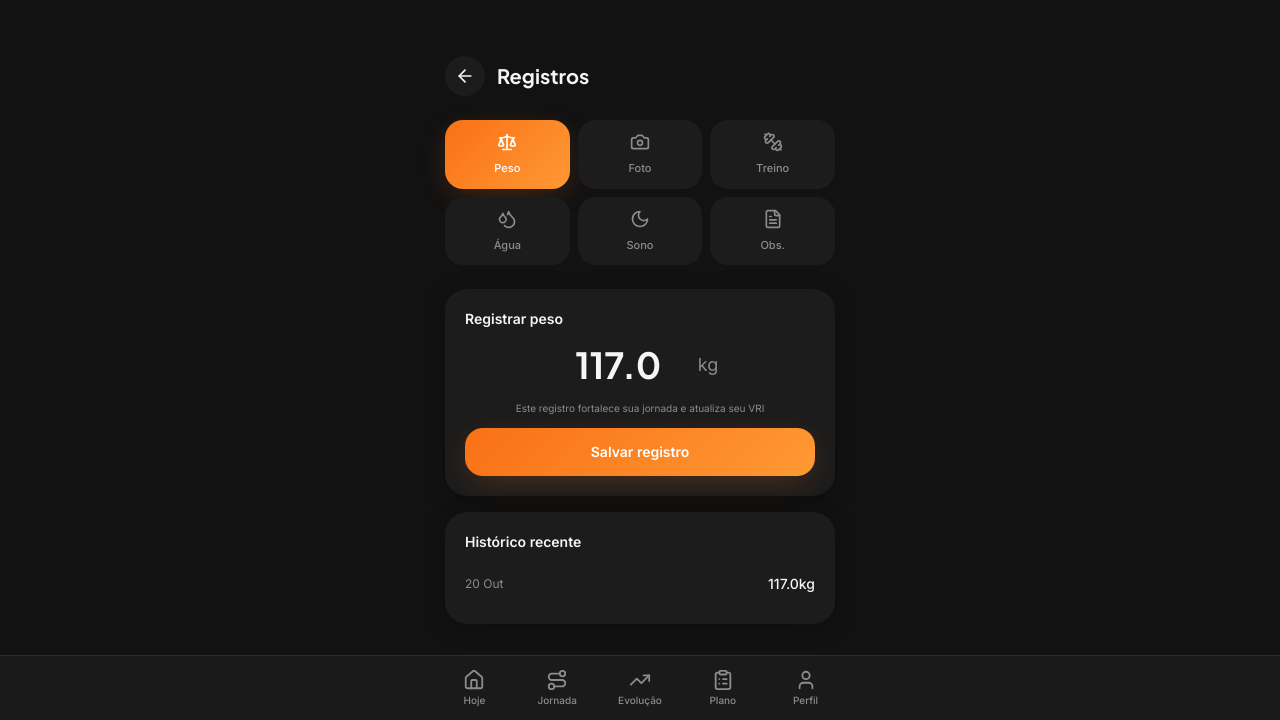
Test: Registrar peso — conferência antes de salvar (PDF do Ernâni, tela 03) › 117 → 108 em dois dias NÃO grava: pede confirmação com os números
The width and height of the screenshot is (1280, 720).
Step 1. Replace the text in the number field with placeholder "0.0" with "108" → (626, 365), box top-left (562, 345), bottom-right (690, 385)
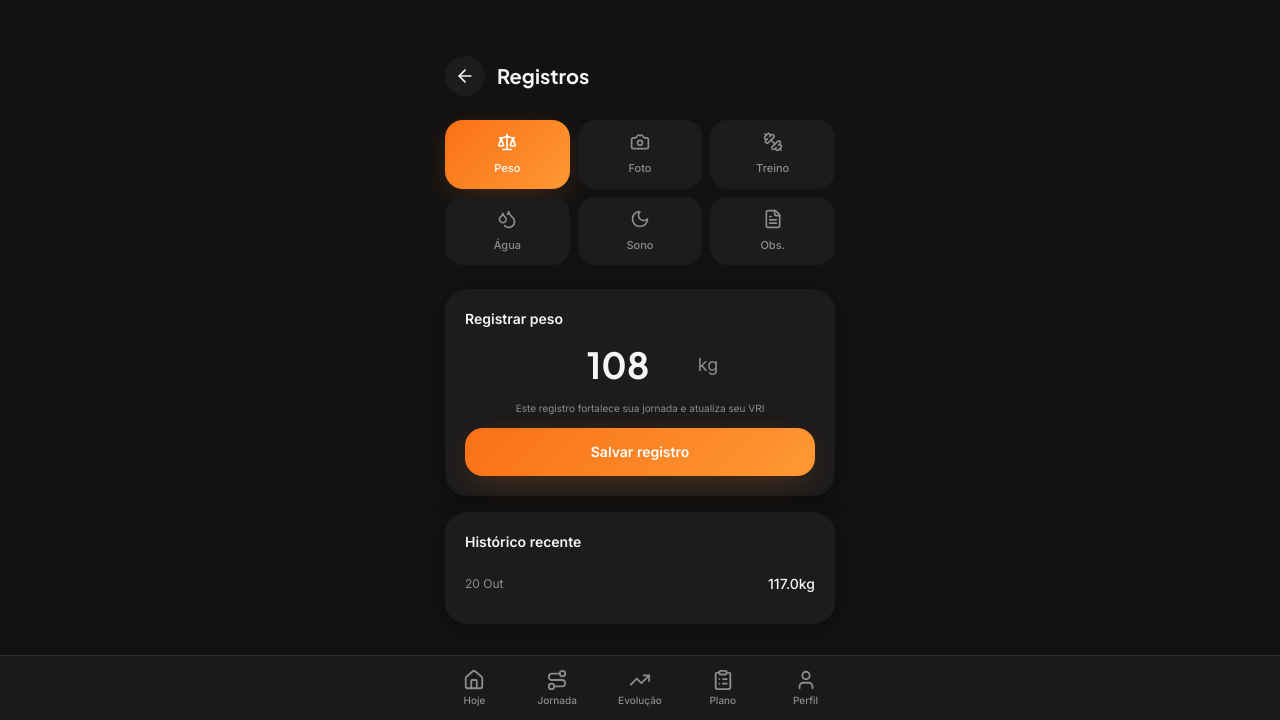
Step 2. Click the button "Salvar registro" → (640, 452), box top-left (465, 428), bottom-right (815, 476)
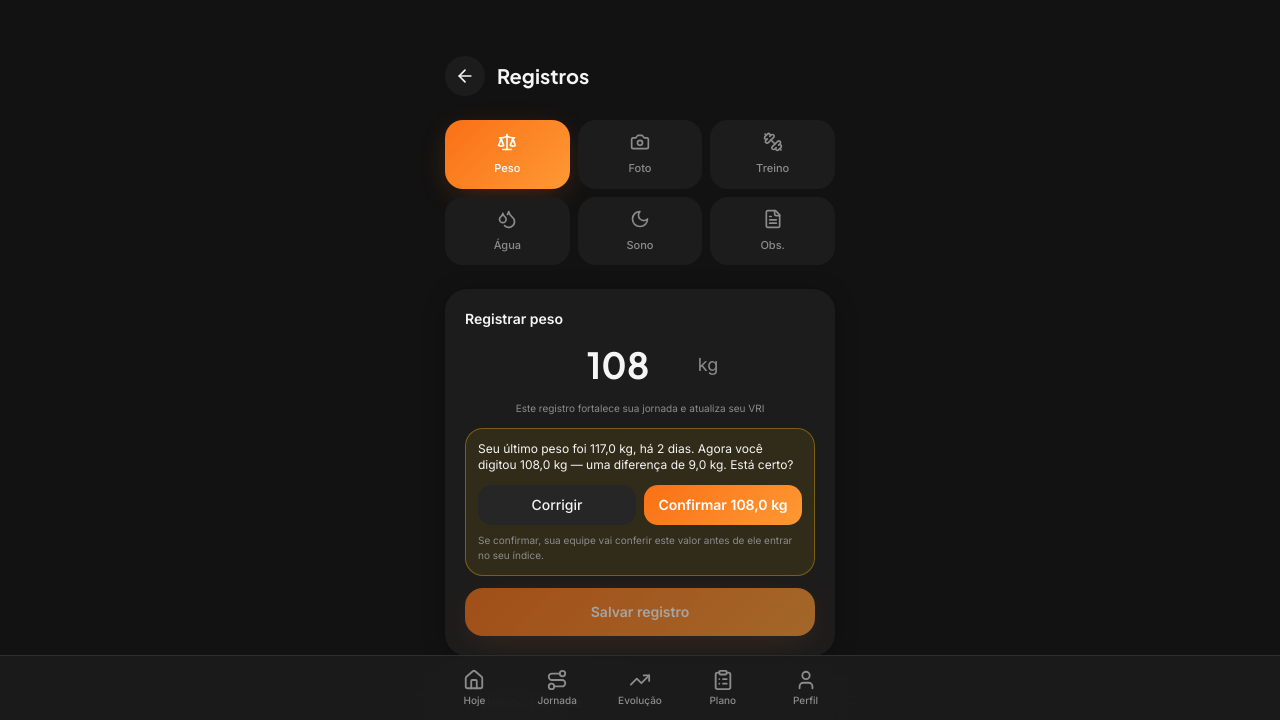
Now the dialog named "Conferir peso" shows "117,0 kg", box top-left (478, 441), bottom-right (794, 472)
Now the dialog shows "108,0 kg", box top-left (478, 441), bottom-right (794, 472)
